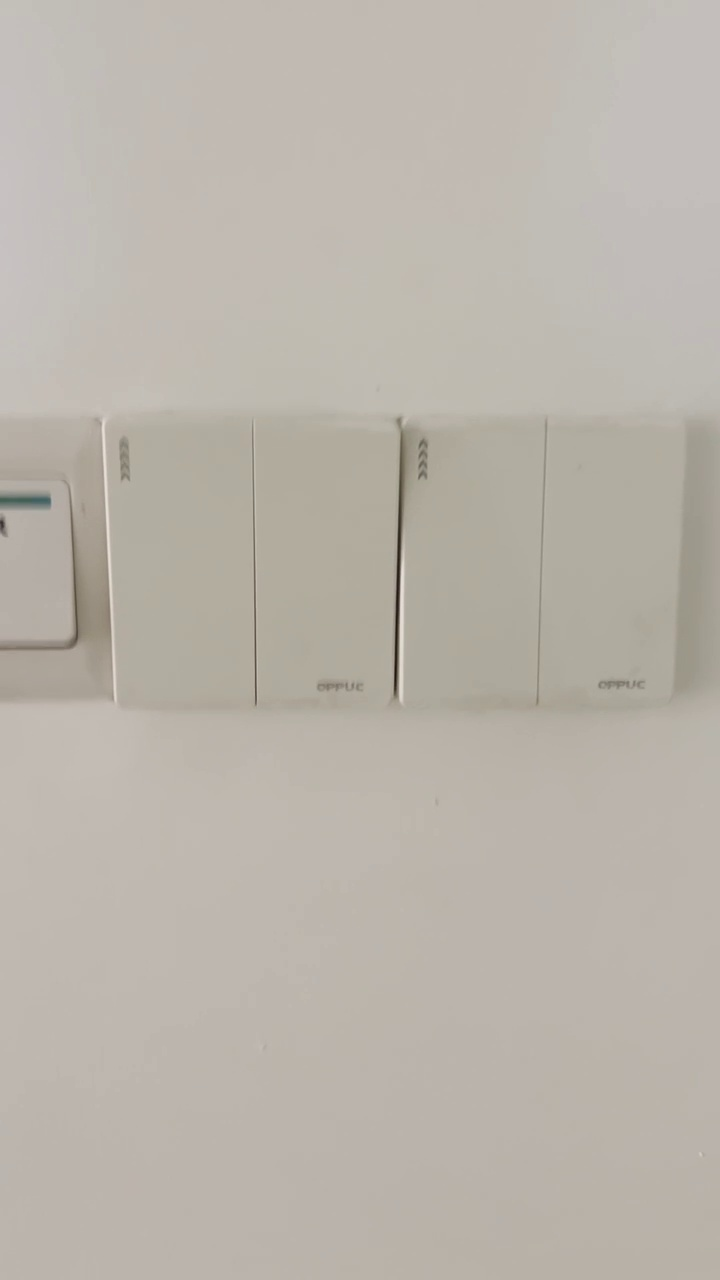button1: (403, 422, 543, 710), (113, 427, 254, 696), (544, 421, 676, 698), (261, 432, 393, 703)
